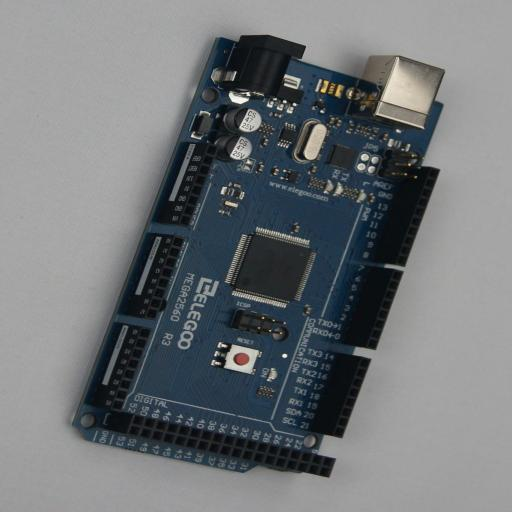Arduino Mega 2560 -Blue-: (72, 35, 445, 477)
